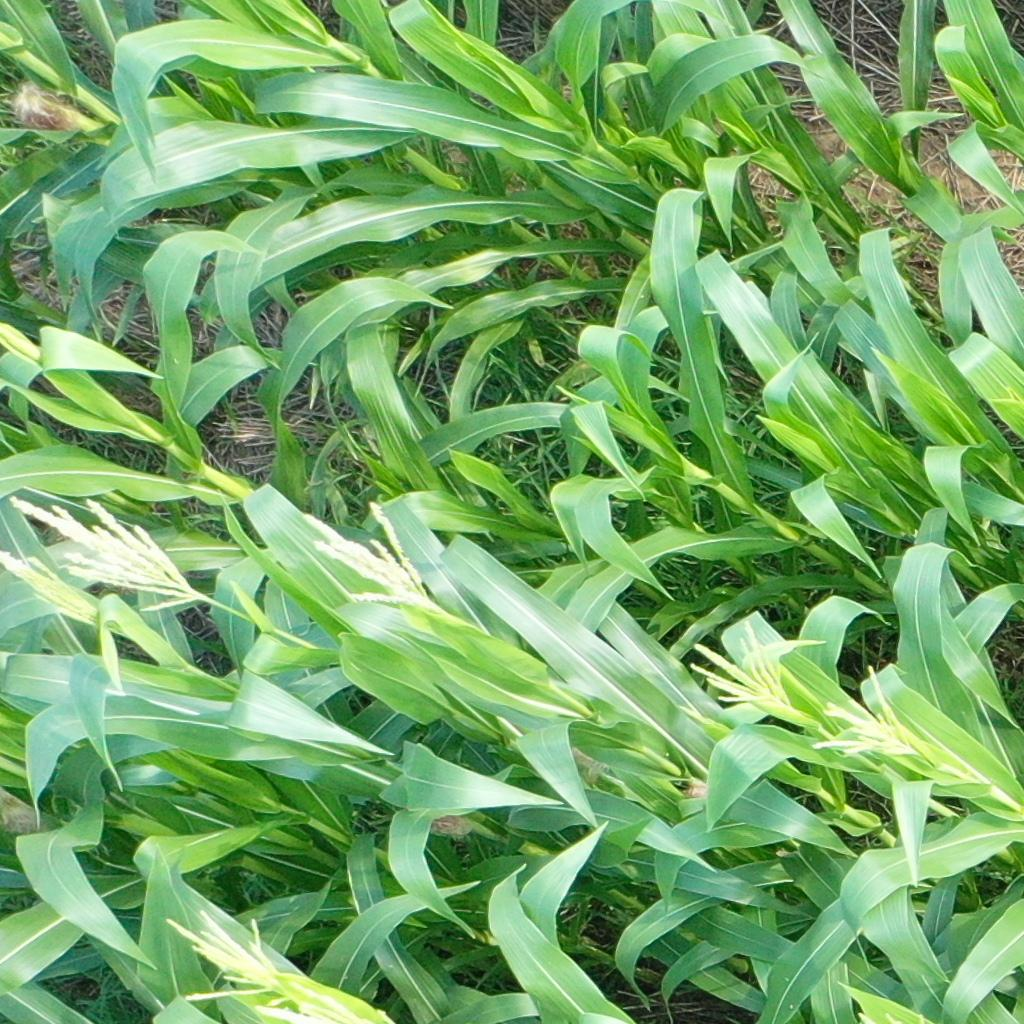Tassel: (7, 482, 207, 612), (300, 492, 457, 620), (807, 661, 924, 772), (154, 900, 278, 1004), (682, 615, 802, 719), (1, 552, 107, 628), (252, 989, 401, 1024)
